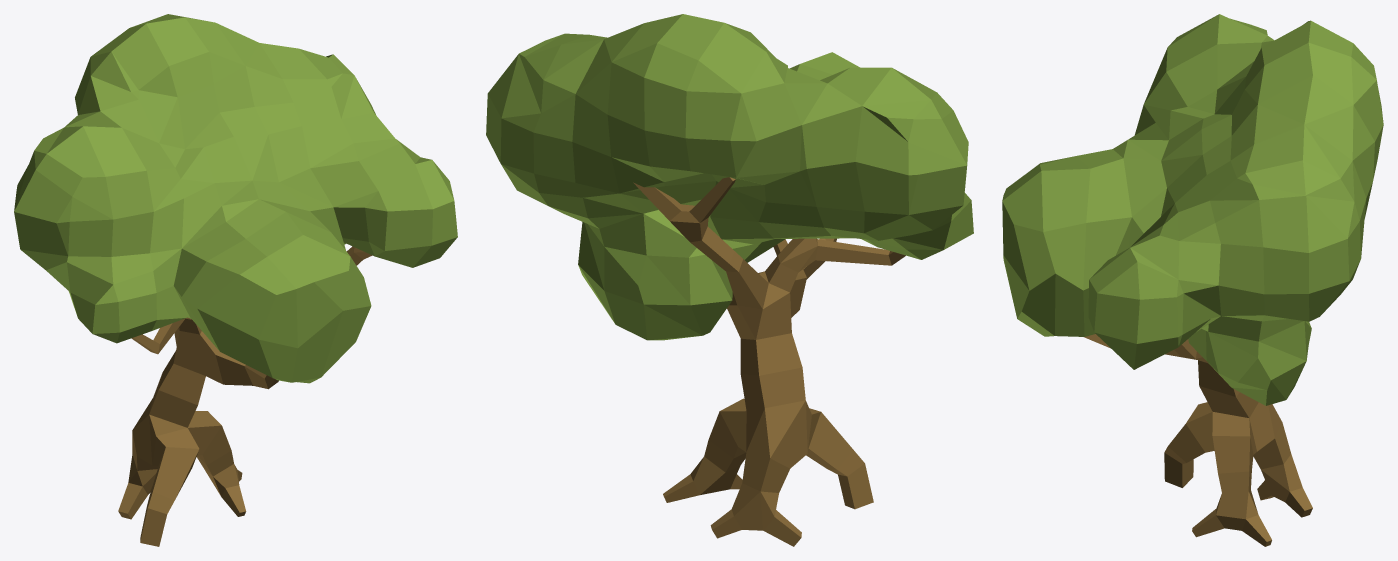
Rendered from large tree.fbx.
3 renders of one model, left to right at view 1: azimuth 30°, elevation 25°; view 2: azimuth 150°, elevation 25°; view 3: azimuth 270°, elevation 25°, orthographic. The views are drawn at different scales.
Visible parts, largest first — view 1: large tree2_LOD0; view 2: large tree2_LOD0; view 3: large tree2_LOD0.
Boxes of the visible parts, <box> form: large tree2_LOD0: <box>14,14,457,546</box>; large tree2_LOD0: <box>486,14,973,546</box>; large tree2_LOD0: <box>1002,14,1383,546</box>.
Size of what is drawn, in the model's own units: 9.8 by 10.92 by 7.55.
